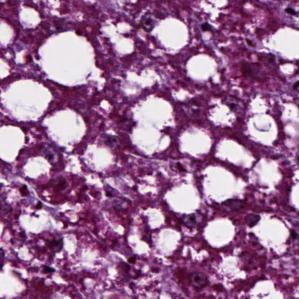steatosis: (36, 34, 100, 89), (150, 17, 194, 51)
